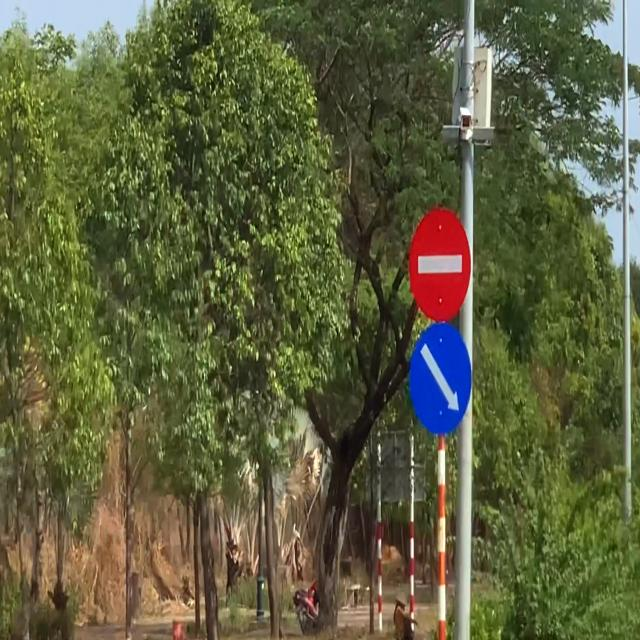Cam nguoc chieu: (404, 200, 472, 323)
Hieu lenh: (406, 319, 474, 439)
